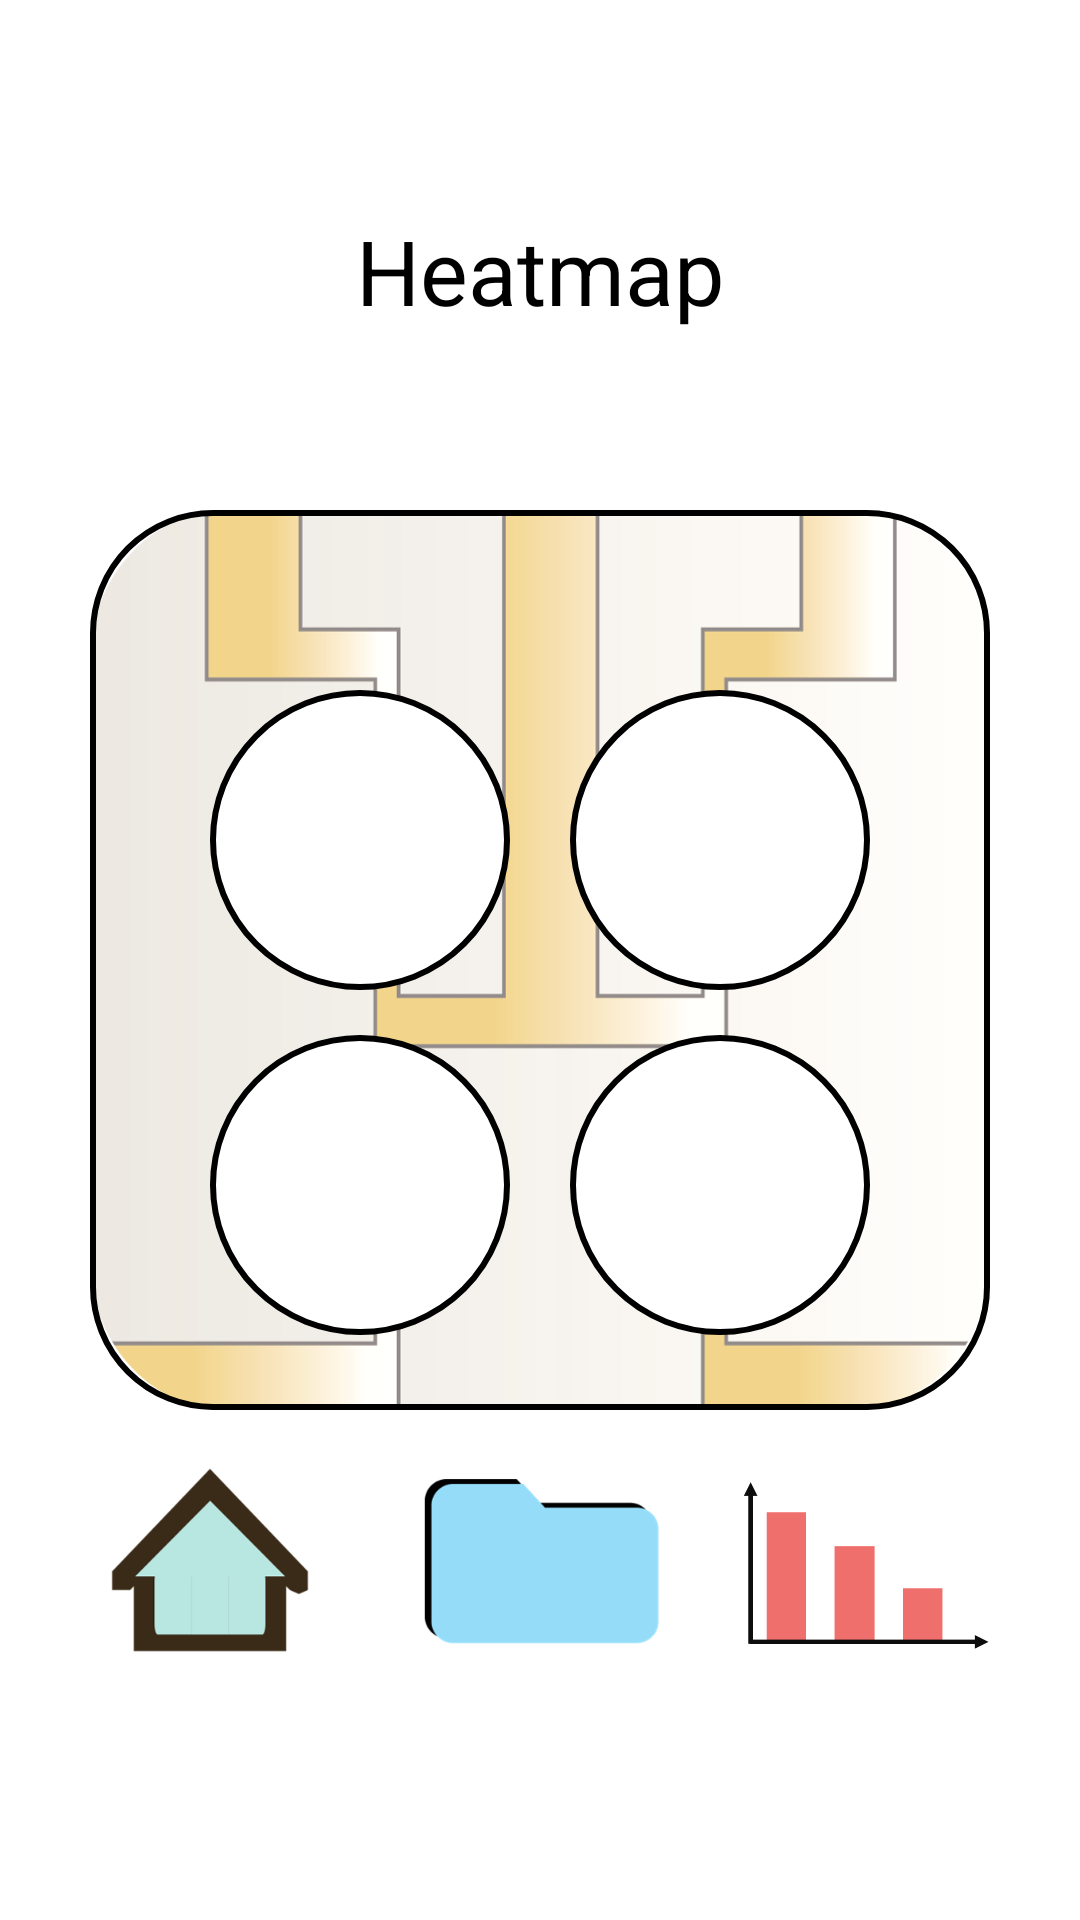

Screen size 1080w x 1920h. Icon name, then its center in pixels as (x=x, y=y):
bar: (x=866, y=1565)
file: (x=541, y=1561)
home: (x=210, y=1560)
